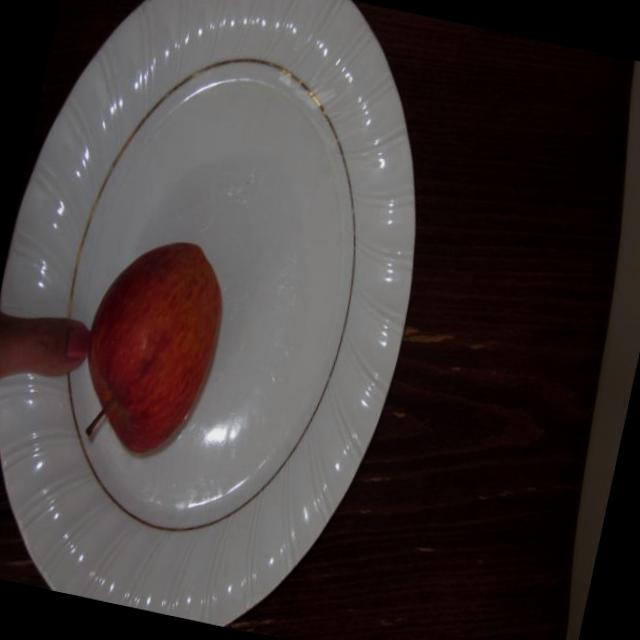Apple: (60, 220, 251, 482)
Finger: (18, 296, 100, 394)
